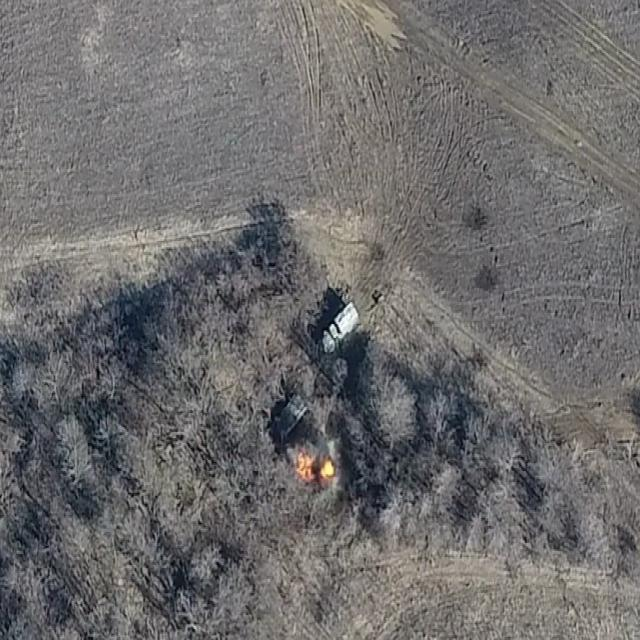cars: (324, 299, 362, 352), (280, 391, 306, 446)
